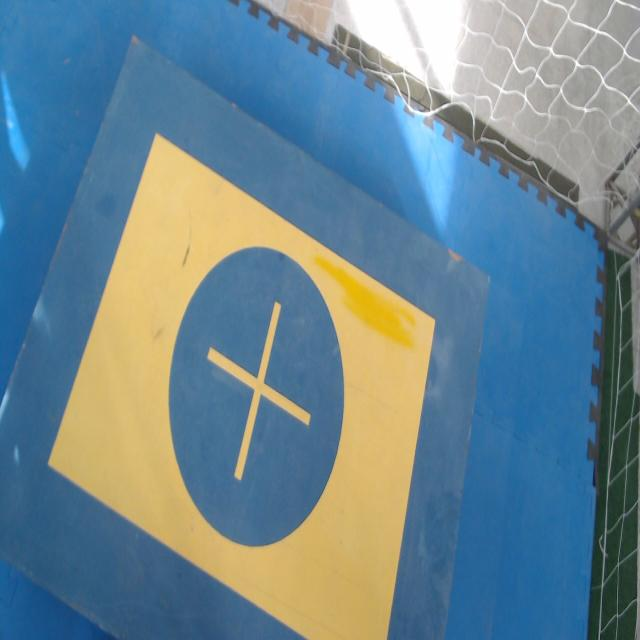base_inicio: (46, 132, 441, 639)
